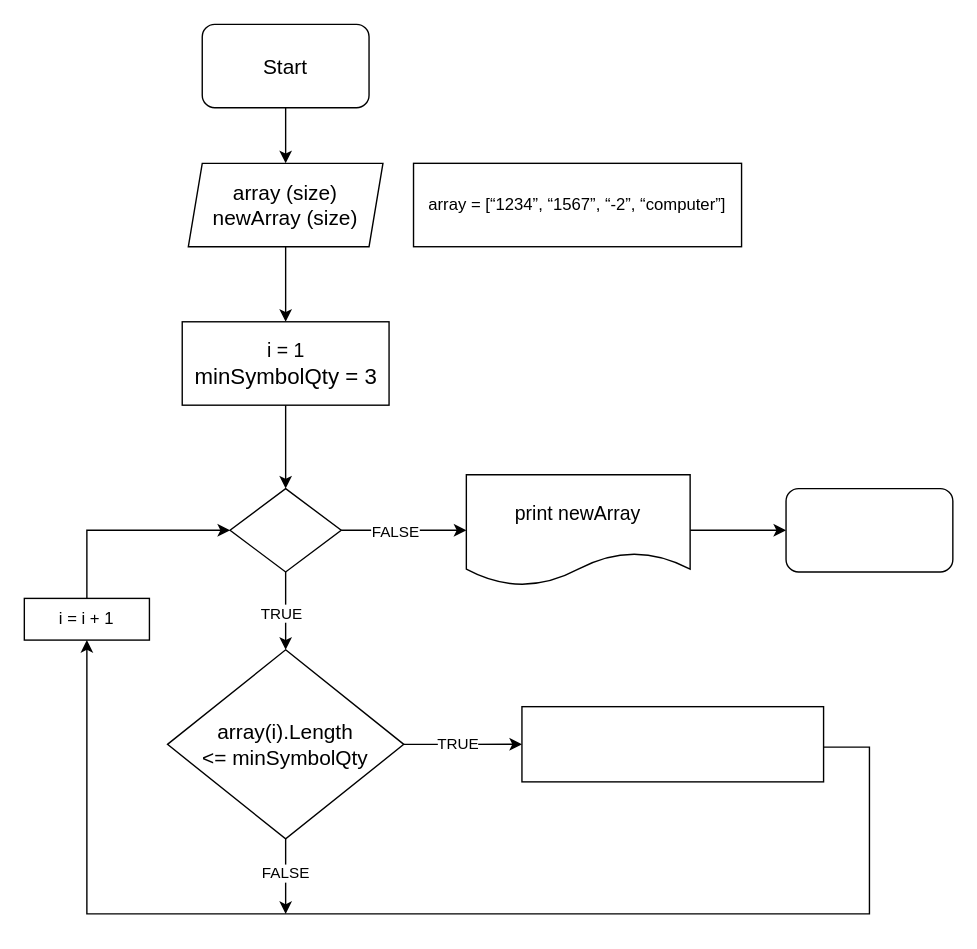
Some shapes in this 977 by 949 pixel diagram are drawn without their labels. The centre of each missing label's shape, as x and y in pixels:
"Finish" goes at point 869,529.
"i < size" goes at point 285,529.
"Добавляем array(i) в новый массив newArray" goes at point 672,743.
